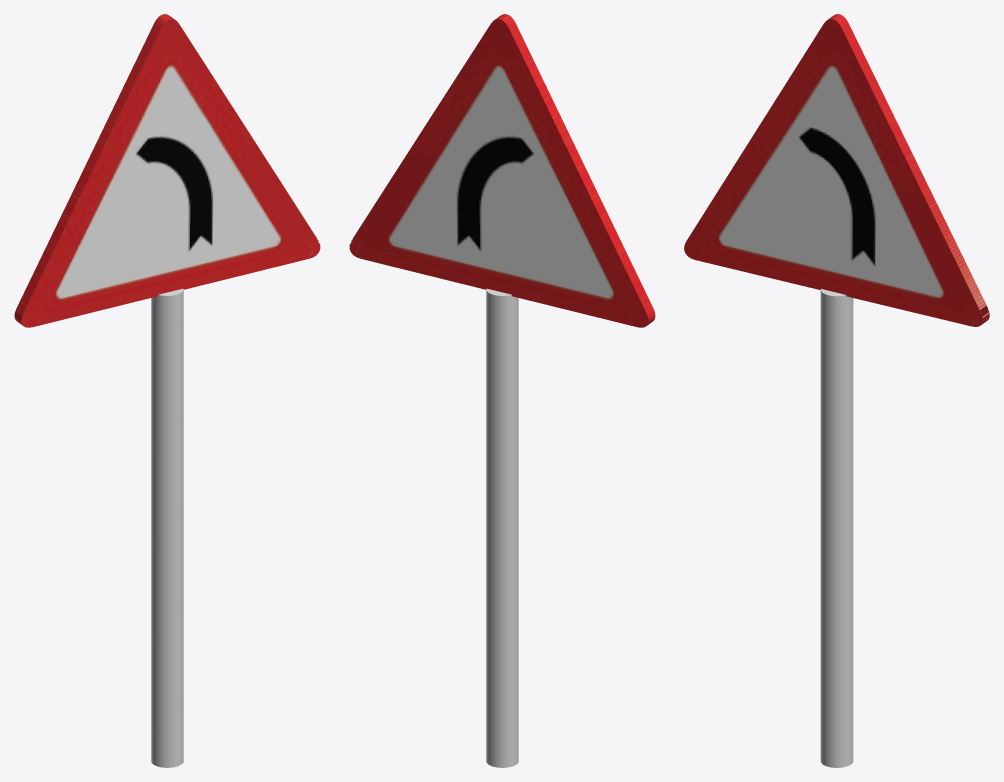
The model's file is Turn_Left_Sign.FBX.
The picture shows the model from 3 angles, left to right: view 1: azimuth 30°, elevation 25°; view 2: azimuth 150°, elevation 25°; view 3: azimuth 330°, elevation 25°; orthographic projection.
Parts seen in each view (by area): view 1: NGon001, Cylinder001; view 2: NGon001, Cylinder001; view 3: NGon001, Cylinder001.
Part boxes in pixels (left/top/right/bottom): NGon001: left=14, top=14, right=320, bottom=327; Cylinder001: left=151, top=288, right=183, bottom=767; NGon001: left=349, top=14, right=655, bottom=327; Cylinder001: left=486, top=288, right=518, bottom=767; NGon001: left=684, top=14, right=989, bottom=326; Cylinder001: left=820, top=289, right=853, bottom=767.
Bounding box in the file's own units: 126 × 300 × 11.86.
1 material, 1 textured.
